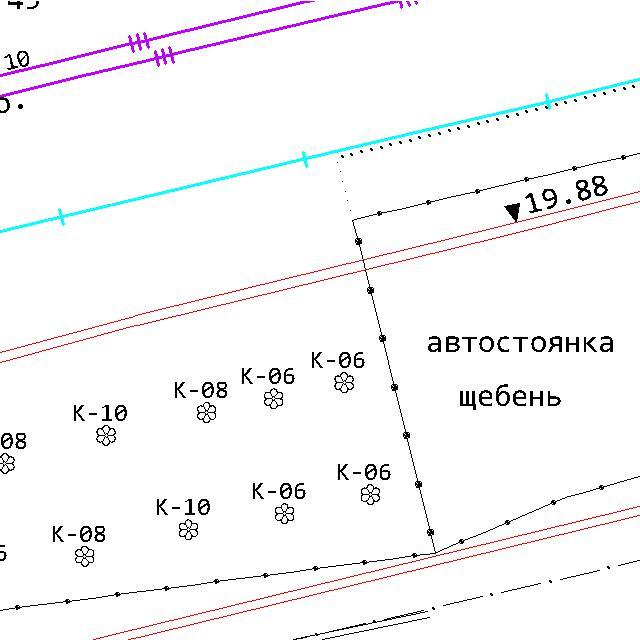bushes: (332, 370, 356, 395), (94, 424, 118, 448), (73, 544, 96, 569), (359, 482, 382, 506), (263, 386, 285, 411), (196, 400, 218, 424), (178, 518, 200, 542), (274, 502, 296, 526)
mark: (503, 201, 523, 225)
